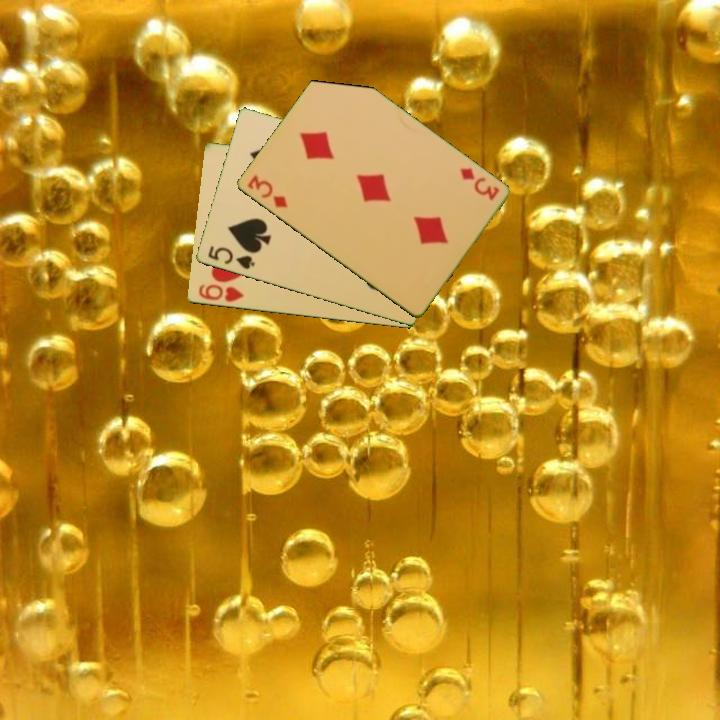3d: (455, 164, 502, 204), (244, 171, 290, 211)
5s: (204, 243, 257, 273)
6h: (195, 281, 246, 305)
